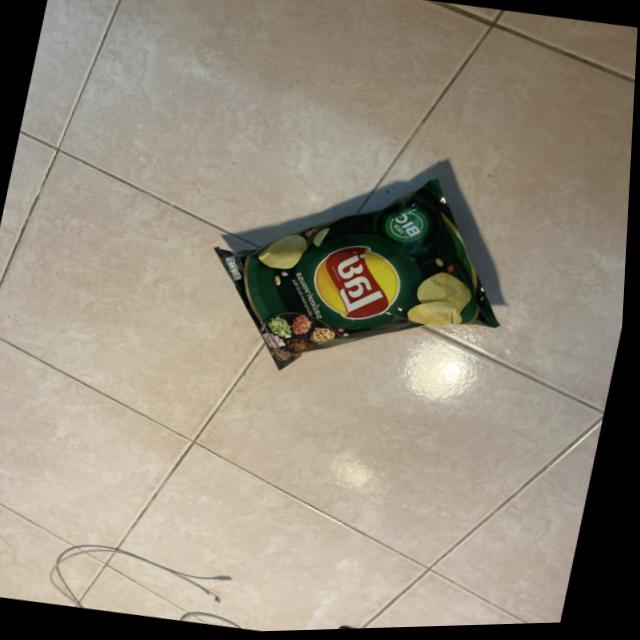Laygreen: (187, 132, 533, 409)
